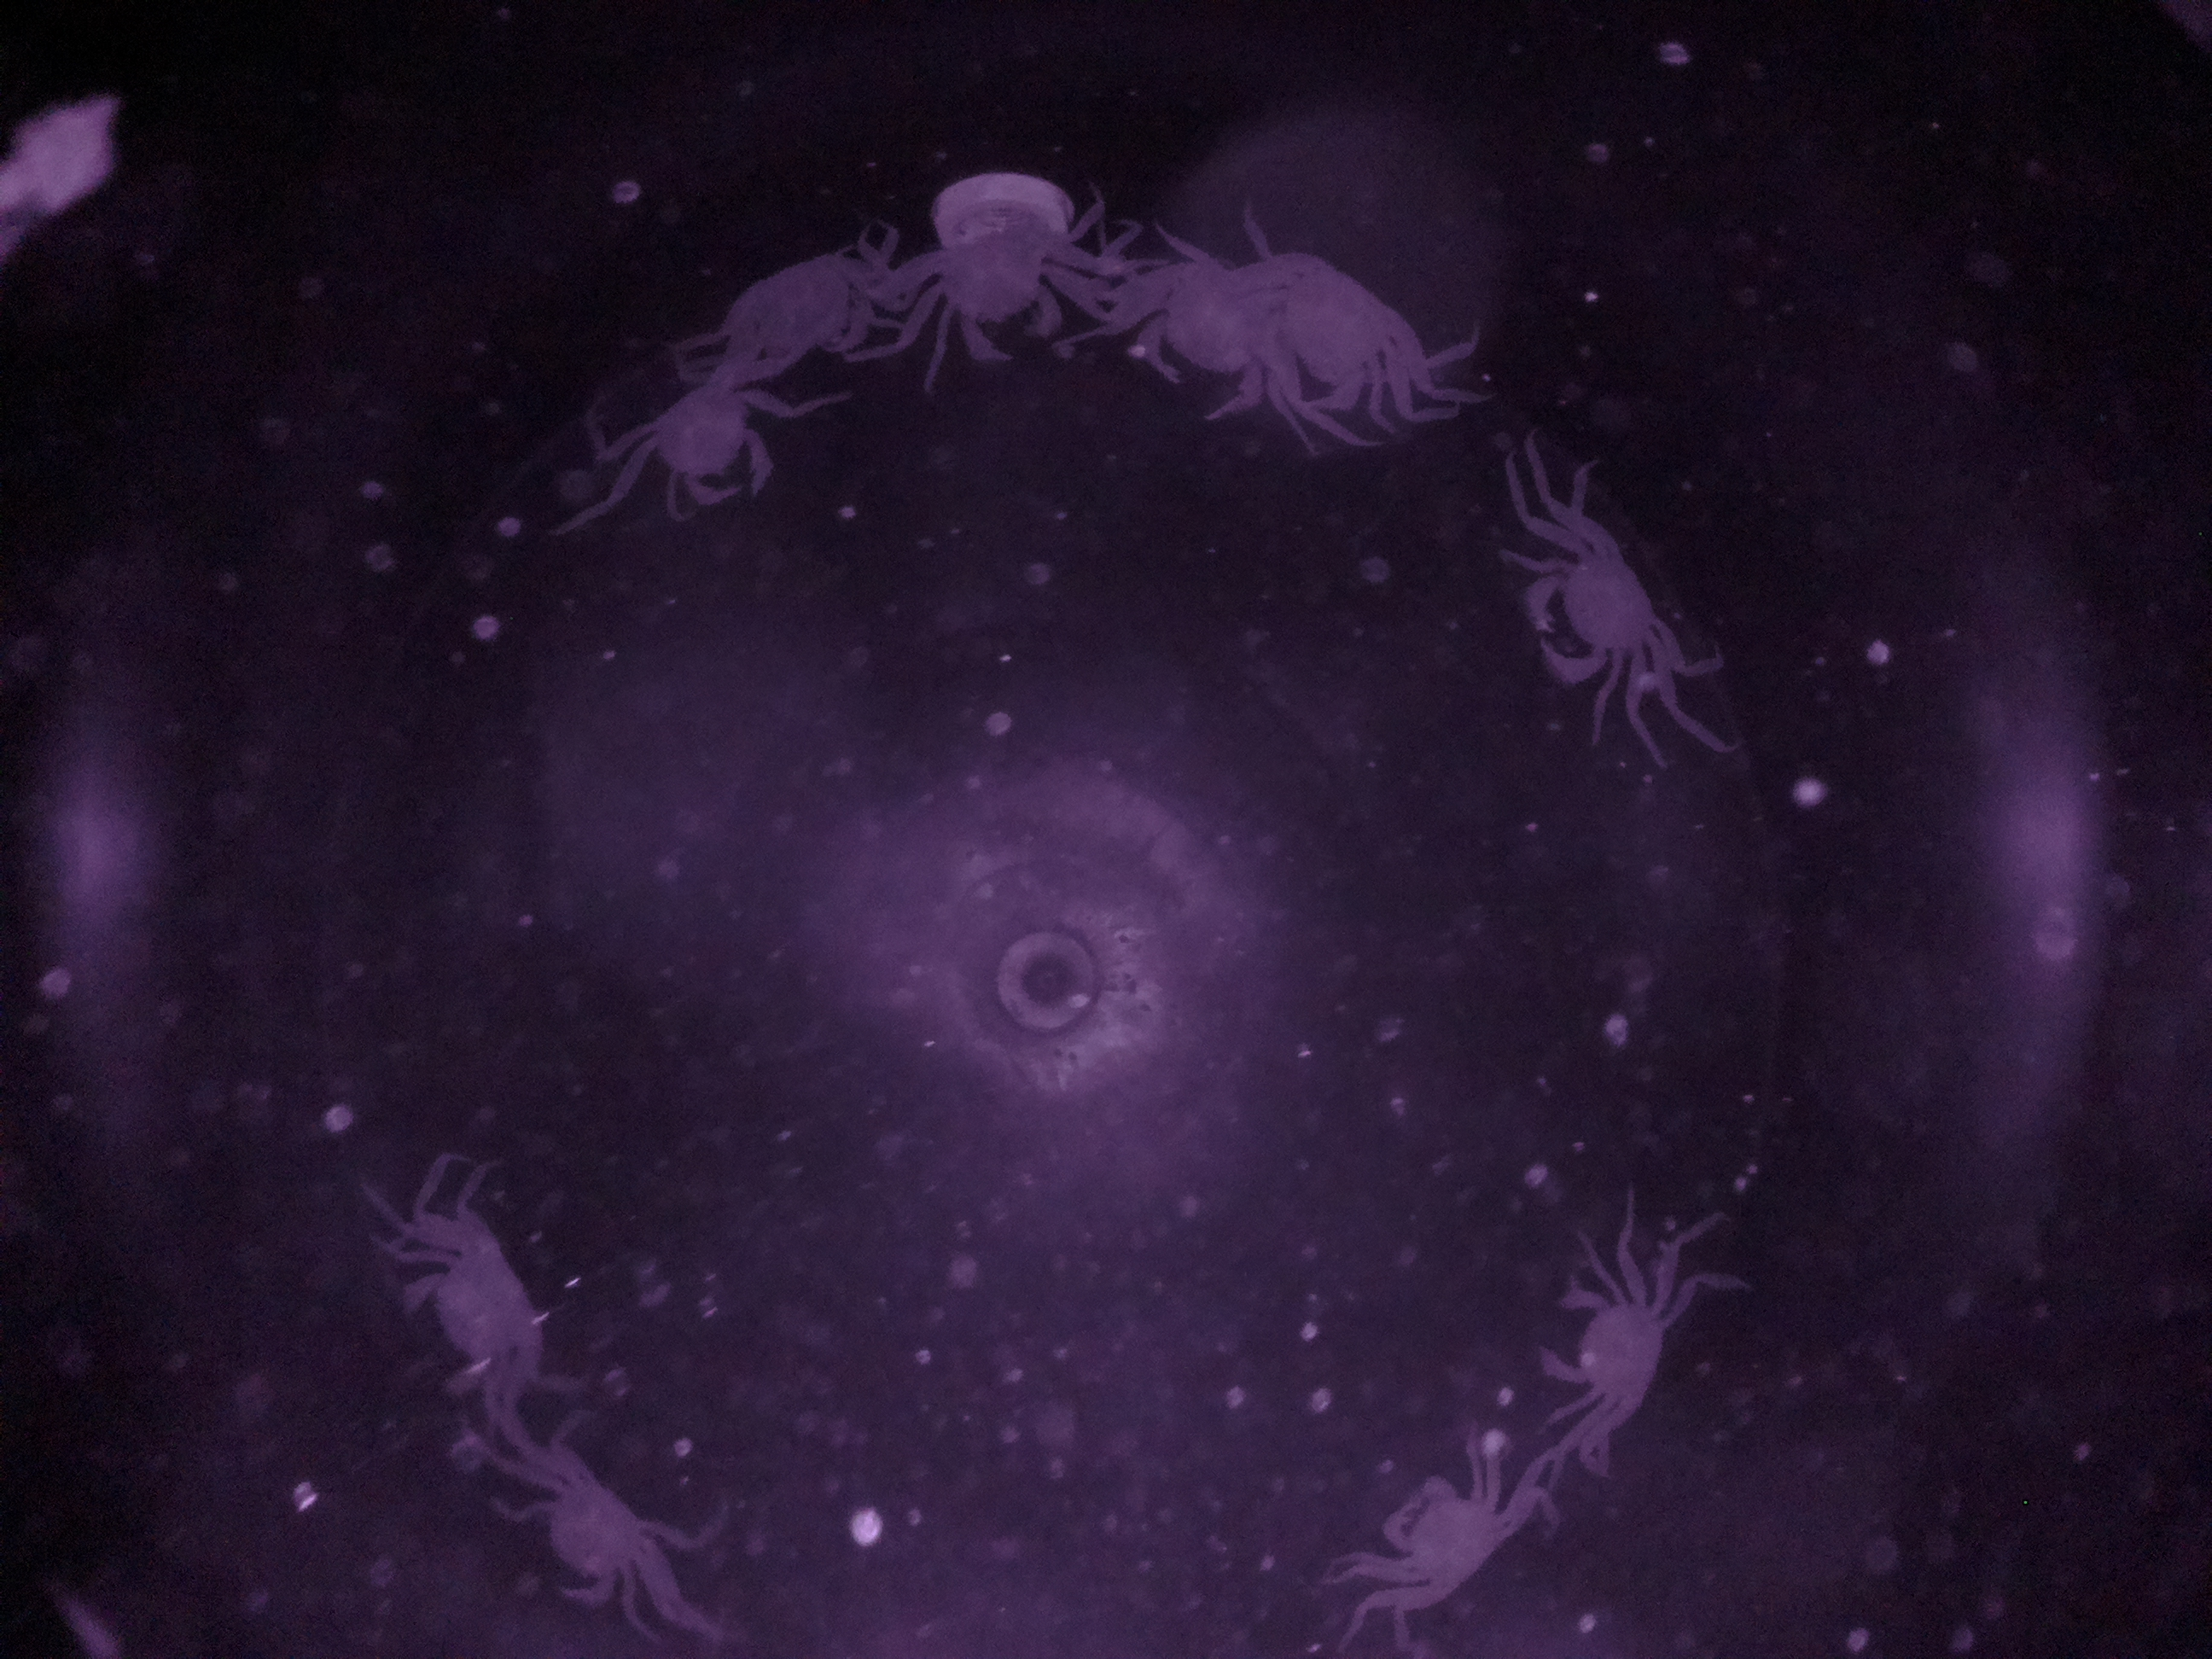Crab: (1503, 500, 1702, 741), (502, 1422, 693, 1622), (1350, 1427, 1529, 1631), (611, 331, 792, 532), (1529, 1243, 1683, 1466)
